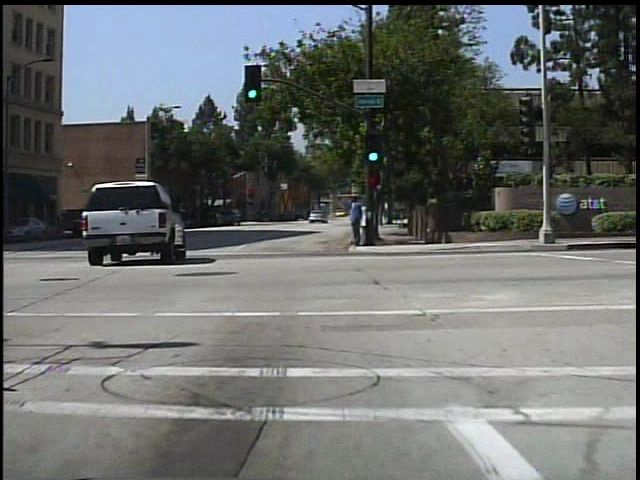person: (345, 193, 365, 249), (353, 195, 371, 247)
